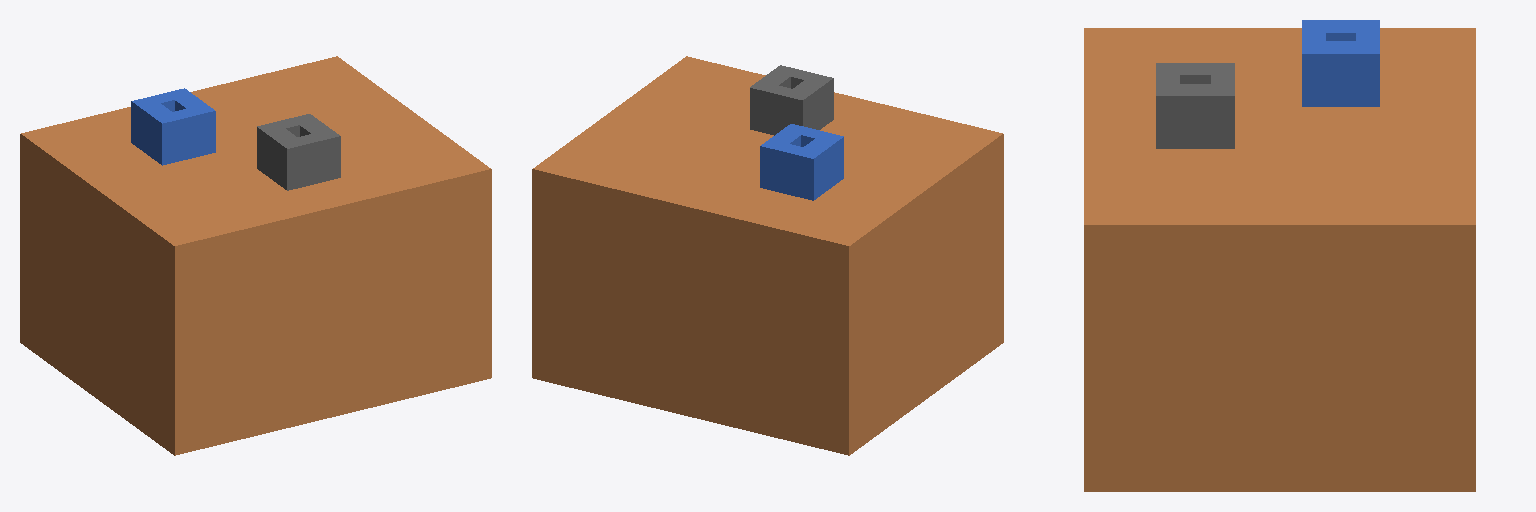
robot.urdf — peg_in_hole_fixtured_scene_0038_peg0013_tol00:
<?xml version="1.0"?>
<robot name="peg_in_hole_fixtured_scene_0038_peg0013_tol00">
  <material name="wood"><color rgba="0.82 0.56 0.35 1.0"/></material>
  <material name="start_fix"><color rgba="0.30 0.50 0.85 1.0"/></material>
  <material name="goal_fix"><color rgba="0.4706 0.4706 0.4706 1.0"/></material>
  <link name="box">
    <visual>
      <origin xyz="0.000000 0.000000 0.000000" rpy="0 0 0"/>
      <geometry><box size="0.475000 0.400000 0.300000"/></geometry>
      <material name="wood"/>
    </visual>
    <collision>
      <origin xyz="0.000000 0.000000 0.000000" rpy="0 0 0"/>
      <geometry><box size="0.475000 0.400000 0.300000"/></geometry>
    </collision>
    <visual>
      <origin xyz="-0.087472 0.062521 0.155000" rpy="0 0 0"/>
      <geometry><box size="0.080000 0.080000 0.010000"/></geometry>
      <material name="start_fix"/>
    </visual>
    <collision>
      <origin xyz="-0.087472 0.062521 0.155000" rpy="0 0 0"/>
      <geometry><box size="0.080000 0.080000 0.010000"/></geometry>
    </collision>
    <visual>
      <origin xyz="-0.062222 0.062521 0.185000" rpy="0 0 0"/>
      <geometry><box size="0.029500 0.080000 0.050000"/></geometry>
      <material name="start_fix"/>
    </visual>
    <collision>
      <origin xyz="-0.062222 0.062521 0.185000" rpy="0 0 0"/>
      <geometry><box size="0.029500 0.080000 0.050000"/></geometry>
    </collision>
    <visual>
      <origin xyz="-0.112722 0.062521 0.185000" rpy="0 0 0"/>
      <geometry><box size="0.029500 0.080000 0.050000"/></geometry>
      <material name="start_fix"/>
    </visual>
    <collision>
      <origin xyz="-0.112722 0.062521 0.185000" rpy="0 0 0"/>
      <geometry><box size="0.029500 0.080000 0.050000"/></geometry>
    </collision>
    <visual>
      <origin xyz="-0.087472 0.090271 0.185000" rpy="0 0 0"/>
      <geometry><box size="0.021000 0.024500 0.050000"/></geometry>
      <material name="start_fix"/>
    </visual>
    <collision>
      <origin xyz="-0.087472 0.090271 0.185000" rpy="0 0 0"/>
      <geometry><box size="0.021000 0.024500 0.050000"/></geometry>
    </collision>
    <visual>
      <origin xyz="-0.087472 0.034771 0.185000" rpy="0 0 0"/>
      <geometry><box size="0.021000 0.024500 0.050000"/></geometry>
      <material name="start_fix"/>
    </visual>
    <collision>
      <origin xyz="-0.087472 0.034771 0.185000" rpy="0 0 0"/>
      <geometry><box size="0.021000 0.024500 0.050000"/></geometry>
    </collision>
    <visual>
      <origin xyz="0.014243 -0.085989 0.155000" rpy="0 0 0"/>
      <geometry><box size="0.080000 0.080000 0.010000"/></geometry>
      <material name="goal_fix"/>
    </visual>
    <collision>
      <origin xyz="0.014243 -0.085989 0.155000" rpy="0 0 0"/>
      <geometry><box size="0.080000 0.080000 0.010000"/></geometry>
    </collision>
    <visual>
      <origin xyz="0.039512 -0.085989 0.185000" rpy="0 0 0"/>
      <geometry><box size="0.029463 0.080000 0.050000"/></geometry>
      <material name="goal_fix"/>
    </visual>
    <collision>
      <origin xyz="0.039512 -0.085989 0.185000" rpy="0 0 0"/>
      <geometry><box size="0.029463 0.080000 0.050000"/></geometry>
    </collision>
    <visual>
      <origin xyz="-0.011025 -0.085989 0.185000" rpy="0 0 0"/>
      <geometry><box size="0.029463 0.080000 0.050000"/></geometry>
      <material name="goal_fix"/>
    </visual>
    <collision>
      <origin xyz="-0.011025 -0.085989 0.185000" rpy="0 0 0"/>
      <geometry><box size="0.029463 0.080000 0.050000"/></geometry>
    </collision>
    <visual>
      <origin xyz="0.014243 -0.058220 0.185000" rpy="0 0 0"/>
      <geometry><box size="0.021075 0.024463 0.050000"/></geometry>
      <material name="goal_fix"/>
    </visual>
    <collision>
      <origin xyz="0.014243 -0.058220 0.185000" rpy="0 0 0"/>
      <geometry><box size="0.021075 0.024463 0.050000"/></geometry>
    </collision>
    <visual>
      <origin xyz="0.014243 -0.113757 0.185000" rpy="0 0 0"/>
      <geometry><box size="0.021075 0.024463 0.050000"/></geometry>
      <material name="goal_fix"/>
    </visual>
    <collision>
      <origin xyz="0.014243 -0.113757 0.185000" rpy="0 0 0"/>
      <geometry><box size="0.021075 0.024463 0.050000"/></geometry>
    </collision>
    <inertial>
      <mass value="500"/>
      <friction value="1.0"/>
      <inertia ixx="1000.0" ixy="0.0" ixz="0.0" iyy="1000.0" iyz="0.0" izz="1000.0"/>
    </inertial>
  </link>
</robot>

--- Facts derived from the render (not from the file) ---
Views: 3 orthographic renders of the robot side by side, from view 1: azimuth 30°, elevation 25°; view 2: azimuth 150°, elevation 25°; view 3: azimuth 270°, elevation 25°.
Model peg_in_hole_fixtured_scene_0038_peg0013_tol00 with 1 links and 0 joints (none), rooted at box, posed every joint at zero.
Visible links, largest first — view 1: box; view 2: box; view 3: box.
Boxes of the visible links, left/top/right/bottom form: box: left=20, top=56, right=491, bottom=455; box: left=532, top=56, right=1003, bottom=455; box: left=1084, top=20, right=1475, bottom=491.
Bounding box of the posed robot: 0.475 × 0.4 × 0.36 m (x, y, z).
Geometry: primitives only (box / cylinder / sphere), no mesh files.
